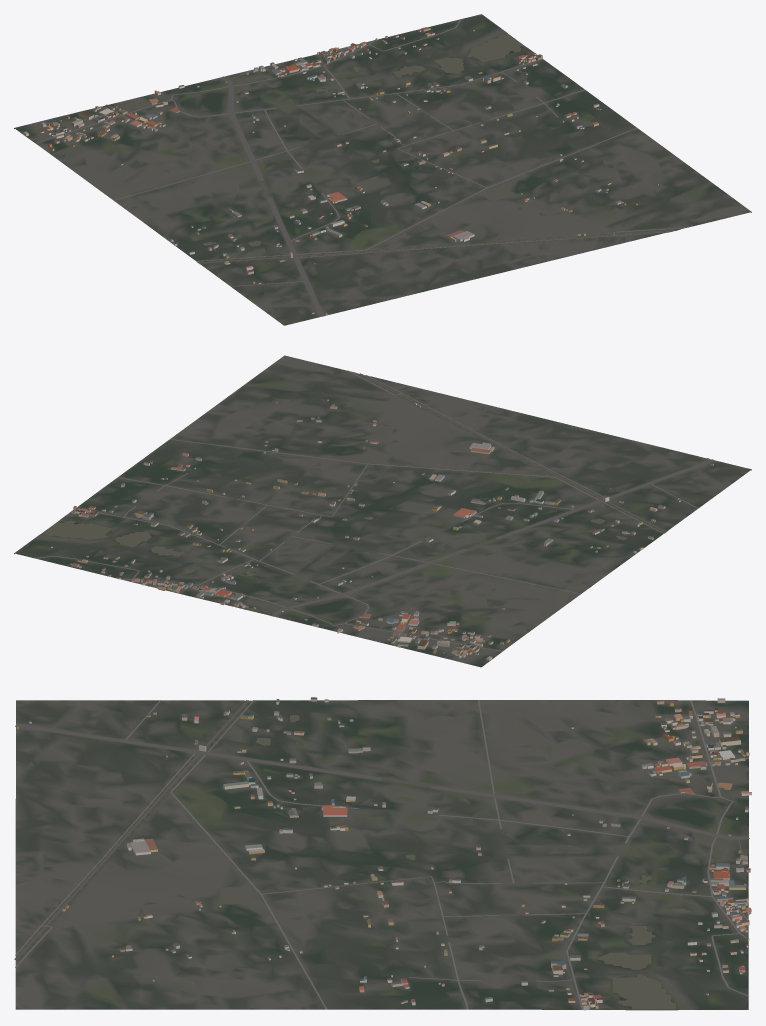
3 renders of one model, top to bottom at view 1: azimuth 30°, elevation 25°; view 2: azimuth 150°, elevation 25°; view 3: azimuth 270°, elevation 25°, orthographic. The views are drawn at different scales.
Parts seen in each view (by area): view 1: ground, buildings, roads, water; view 2: ground, buildings, roads, water; view 3: ground, buildings, roads, water.
Boxes of the visible parts, <box> form: ground: <box>14,14,751,325</box>; buildings: <box>23,27,658,314</box>; roads: <box>35,19,688,316</box>; water: <box>198,34,676,263</box>; ground: <box>14,355,751,667</box>; buildings: <box>51,399,713,660</box>; roads: <box>34,370,715,651</box>; water: <box>41,373,666,599</box>; ground: <box>15,700,748,1010</box>; buildings: <box>16,697,751,1010</box>; roads: <box>15,700,749,1009</box>; water: <box>14,700,714,1009</box>.
Size of the model in its own units: 1402 by 14.44 by 1411.
